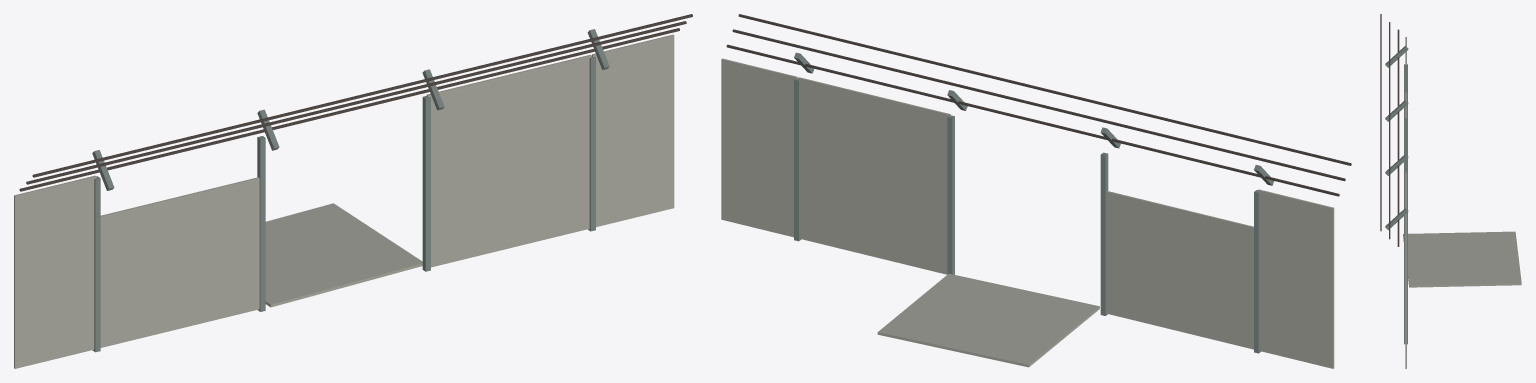
The model's file is SM_VallaBase_v2_LOD0.fbx.
The picture shows the model from 3 angles, left to right: view 1: azimuth 30°, elevation 25°; view 2: azimuth 150°, elevation 25°; view 3: azimuth 270°, elevation 25°; orthographic projection. The views are drawn at different scales.
Visible parts, largest first — view 1: SM_valla_base_v2_LOD0; view 2: SM_valla_base_v2_LOD0; view 3: SM_valla_base_v2_LOD0.
Boxes of the visible parts, bbox=[...] form: SM_valla_base_v2_LOD0: bbox=[14, 14, 692, 368]; SM_valla_base_v2_LOD0: bbox=[721, 14, 1351, 368]; SM_valla_base_v2_LOD0: bbox=[1380, 14, 1521, 368].
Bounding box in the file's own units: 9.98 × 3.03 × 2.76.
